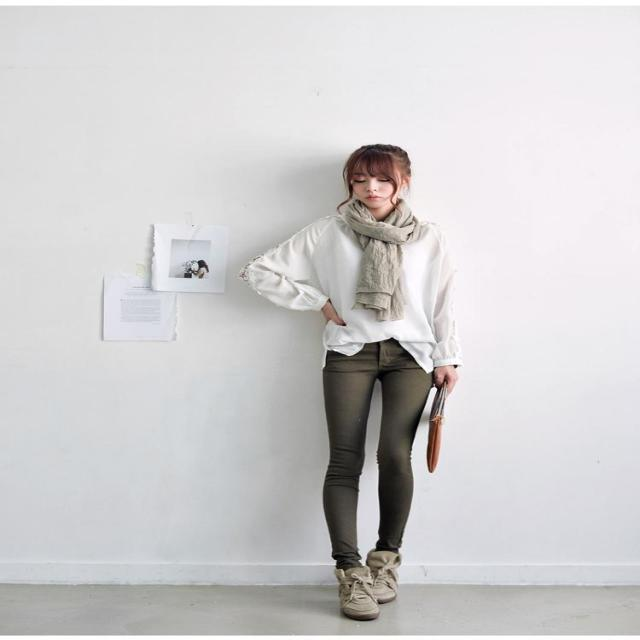long-sleeve-top: (248, 184, 502, 356)
trousers: (291, 382, 428, 553)
